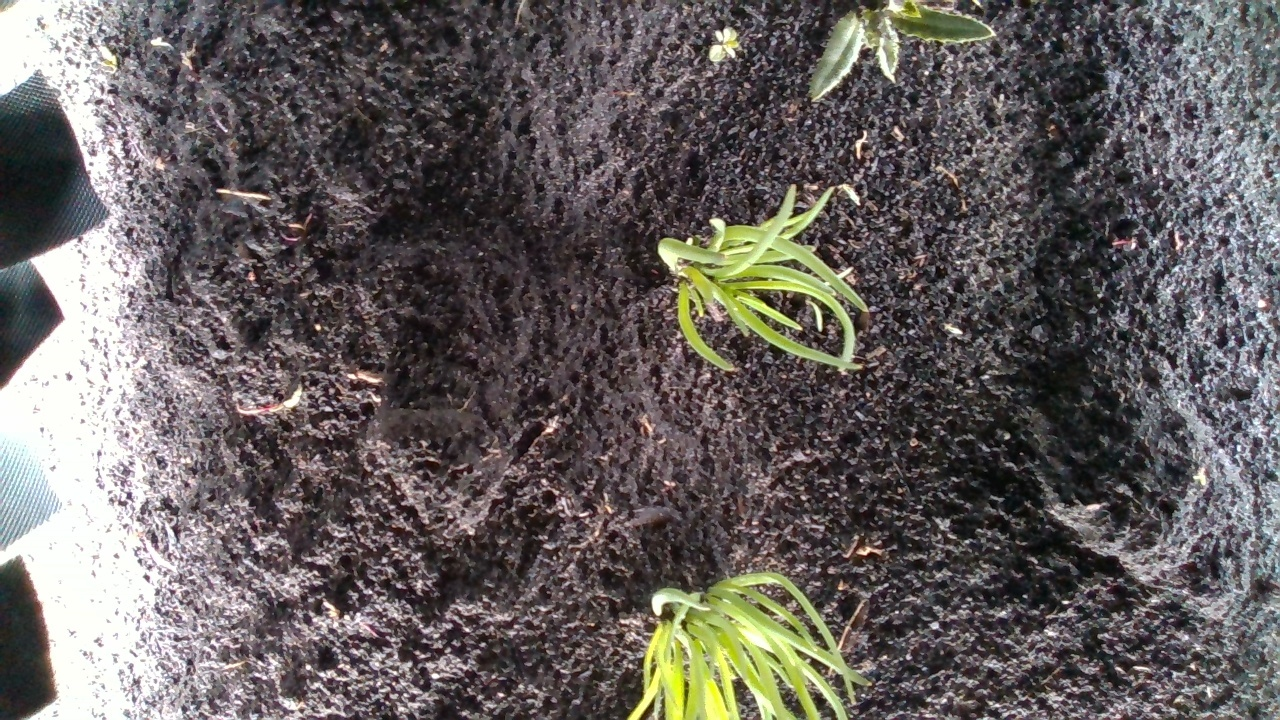weed: (709, 26, 736, 69)
